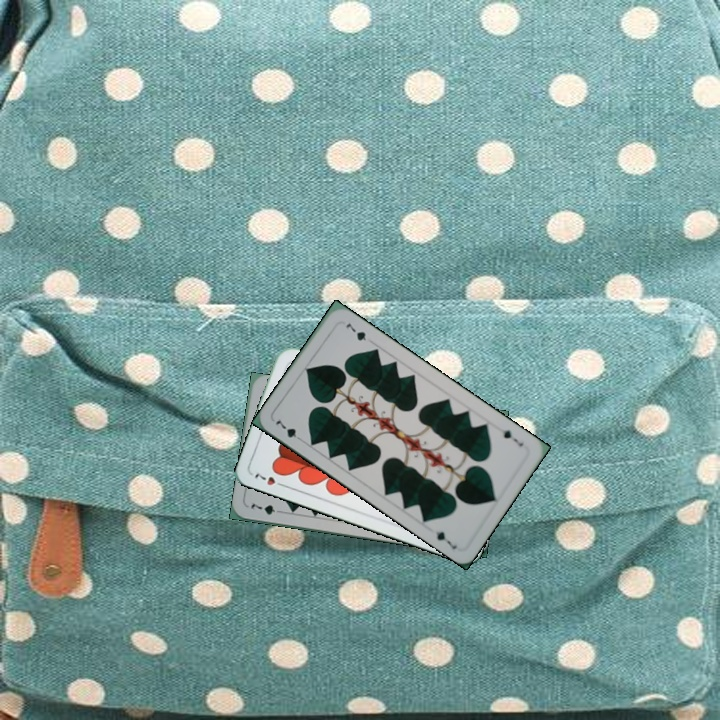G7: (271, 416, 306, 445), (495, 423, 526, 449), (247, 500, 286, 517)
H7: (250, 468, 288, 490)
